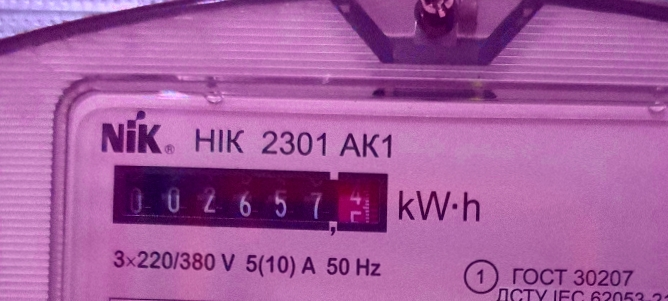0: (126, 184, 144, 213), (165, 183, 180, 213)
2: (200, 184, 217, 213)
4: (347, 179, 362, 204)
5: (272, 187, 288, 217), (347, 208, 363, 222)
6: (237, 187, 252, 217)
7: (308, 188, 323, 220)
screen: (103, 153, 399, 243)
